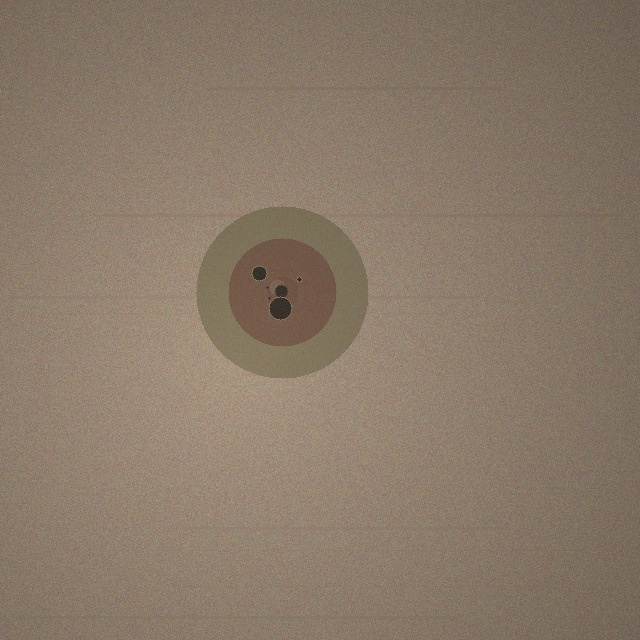shrinkage: (196, 206, 368, 378)
